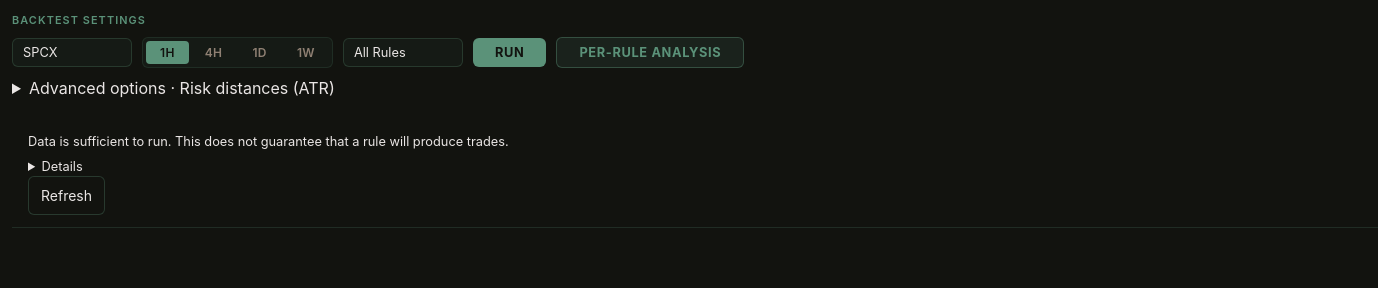
Scenario: distinguishes a failed run (true) from zero matching trades
This screenshot has width=1378, height=288.
Click the button "Run": (510, 52) [473,38,546,67]
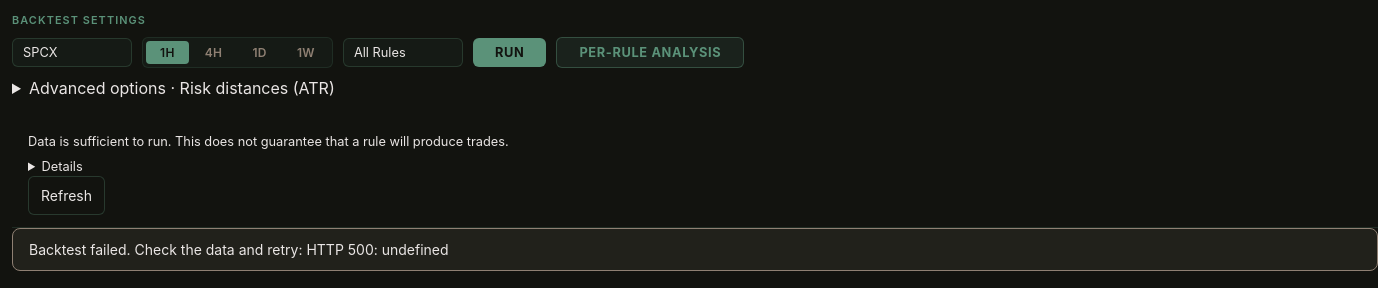
expect the message "Backtest failed. Check the data and retry: HTTP 500: undefined" is shown: met, box [12,228,1377,271]
